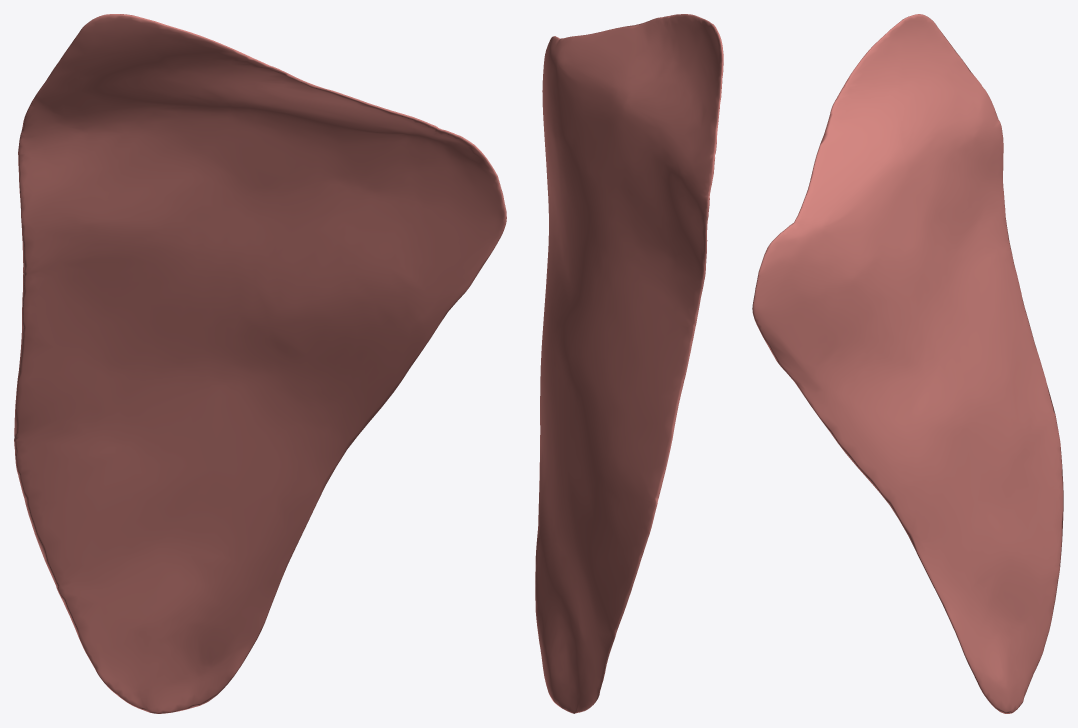
3 renders of one model, left to right at view 1: azimuth 30°, elevation 25°; view 2: azimuth 150°, elevation 25°; view 3: azimuth 270°, elevation 25°, orthographic. The views are drawn at different scales.
Visible parts, largest first — view 1: ZA_7f9af2f1fd1d8d7c; view 2: ZA_7f9af2f1fd1d8d7c; view 3: ZA_7f9af2f1fd1d8d7c.
Part boxes in pixels (<box>): ZA_7f9af2f1fd1d8d7c: <box>14,14,506,713</box>; ZA_7f9af2f1fd1d8d7c: <box>535,14,723,713</box>; ZA_7f9af2f1fd1d8d7c: <box>752,14,1063,713</box>.
Bounding box in the file's own units: 0.0605 × 0.1314 × 0.0572.
